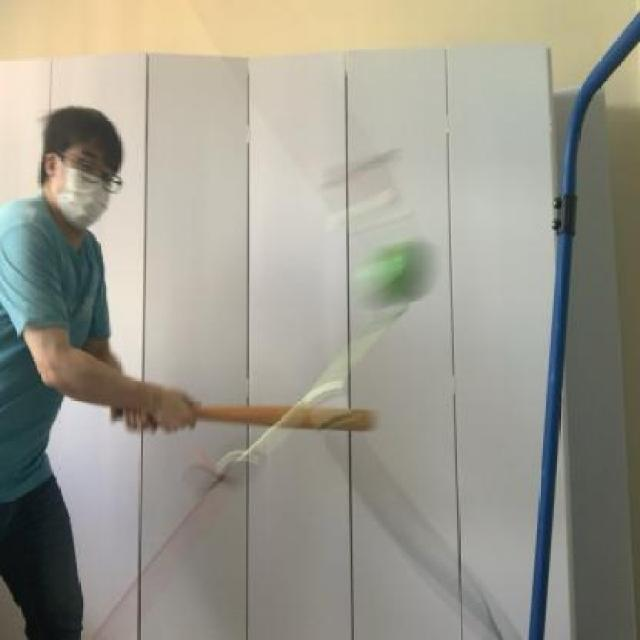baseball: (348, 232, 442, 306)
